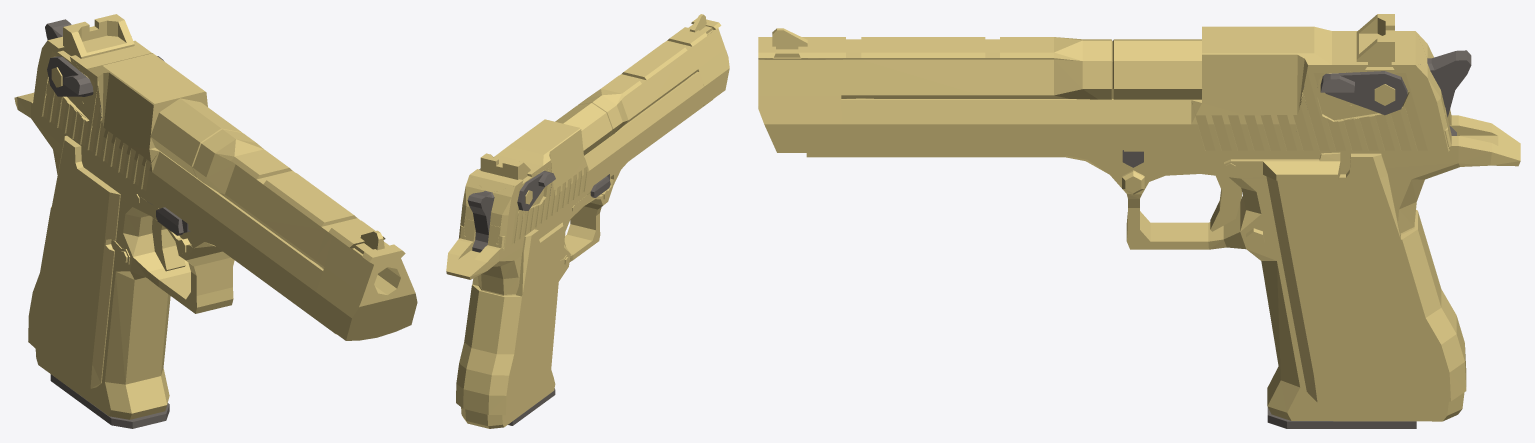
File: Pistol_Retro.fbx
3 views of the same model, side by side, from view 1: azimuth 30°, elevation 25°; view 2: azimuth 150°, elevation 25°; view 3: azimuth 270°, elevation 25° (orthographic). The views are drawn at different scales.
Parts seen in each view (by area): view 1: GunMesh; view 2: GunMesh; view 3: GunMesh.
Boxes of the visible parts, <box> form: GunMesh: <box>14,14,417,428</box>; GunMesh: <box>446,14,729,428</box>; GunMesh: <box>758,14,1520,428</box>.
Bounding box in the file's own units: 0.0403 × 0.1507 × 0.27.
